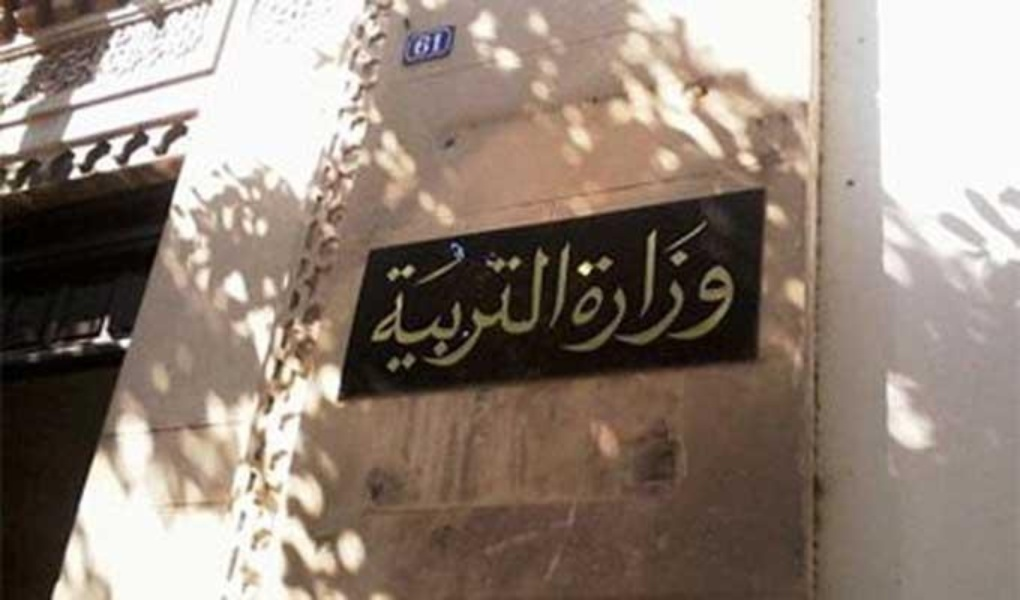text: (561, 232, 577, 376), (385, 232, 400, 376), (401, 232, 416, 376), (417, 232, 432, 376), (433, 232, 448, 376), (449, 232, 464, 376), (465, 232, 480, 376), (481, 232, 496, 376), (497, 232, 512, 376), (513, 232, 528, 376), (529, 232, 544, 376), (545, 232, 560, 376), (593, 217, 608, 359), (609, 217, 624, 359), (625, 217, 640, 359), (641, 217, 656, 359), (657, 217, 672, 359), (673, 217, 688, 359), (689, 217, 704, 359), (705, 217, 720, 359), (721, 217, 736, 359), (417, 32, 432, 61), (737, 217, 740, 359), (433, 32, 446, 61), (590, 217, 592, 359)
